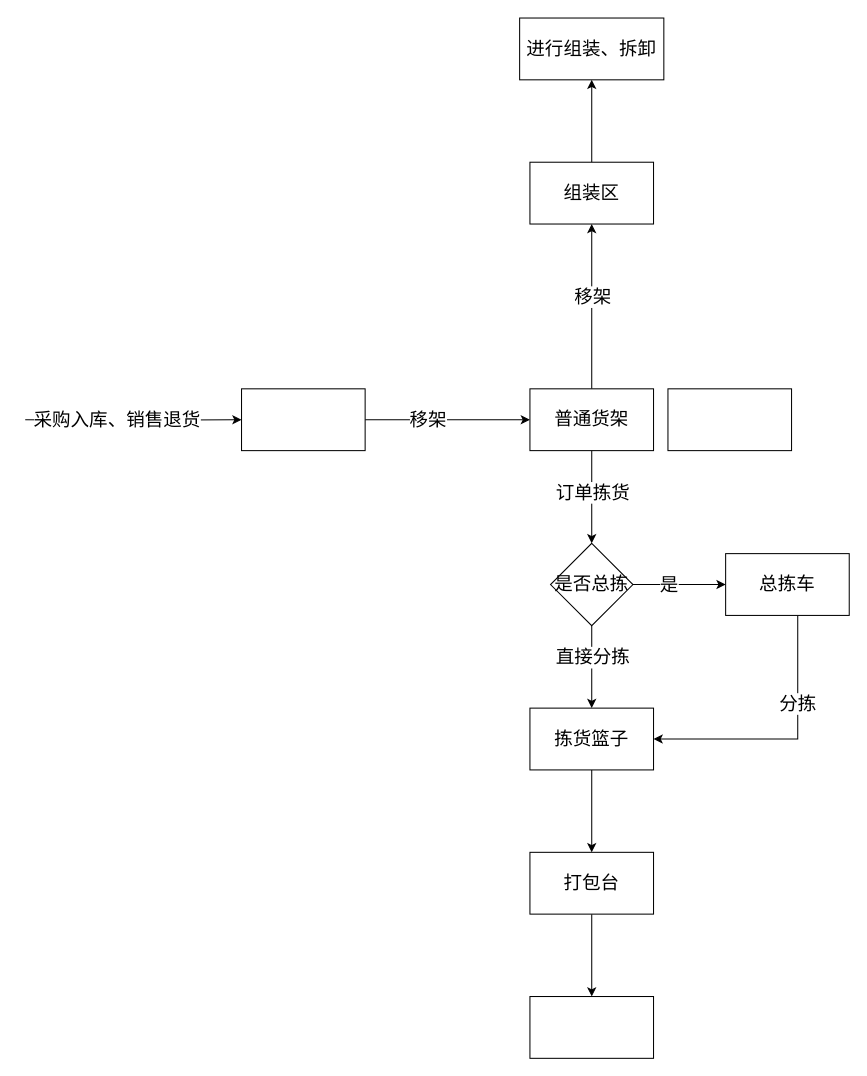
The diagram is 867 pixels wide and 1076 high, and some of its shapes have lost their labels. Here are the shapes that lost their labels. From the top down, the centre of each, then its label:
At pixel 303 419: "待检区".
At pixel 729 419: "冷藏柜".
At pixel 591 1026: "出库".
